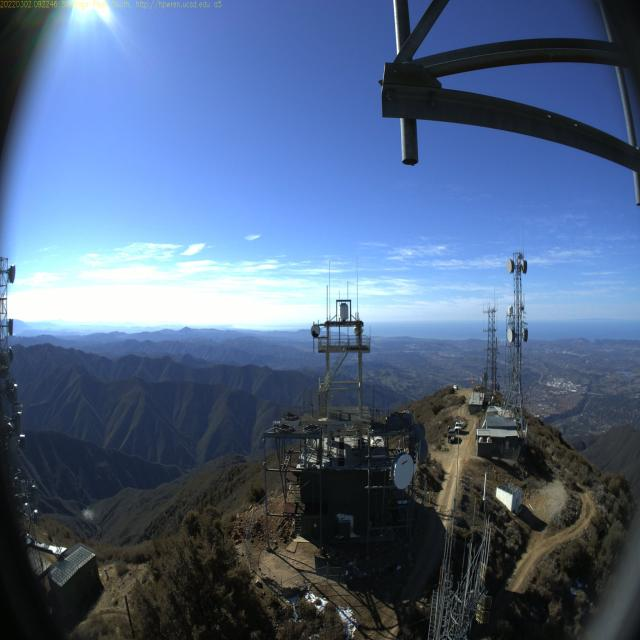smoke: (80, 509, 96, 523)
